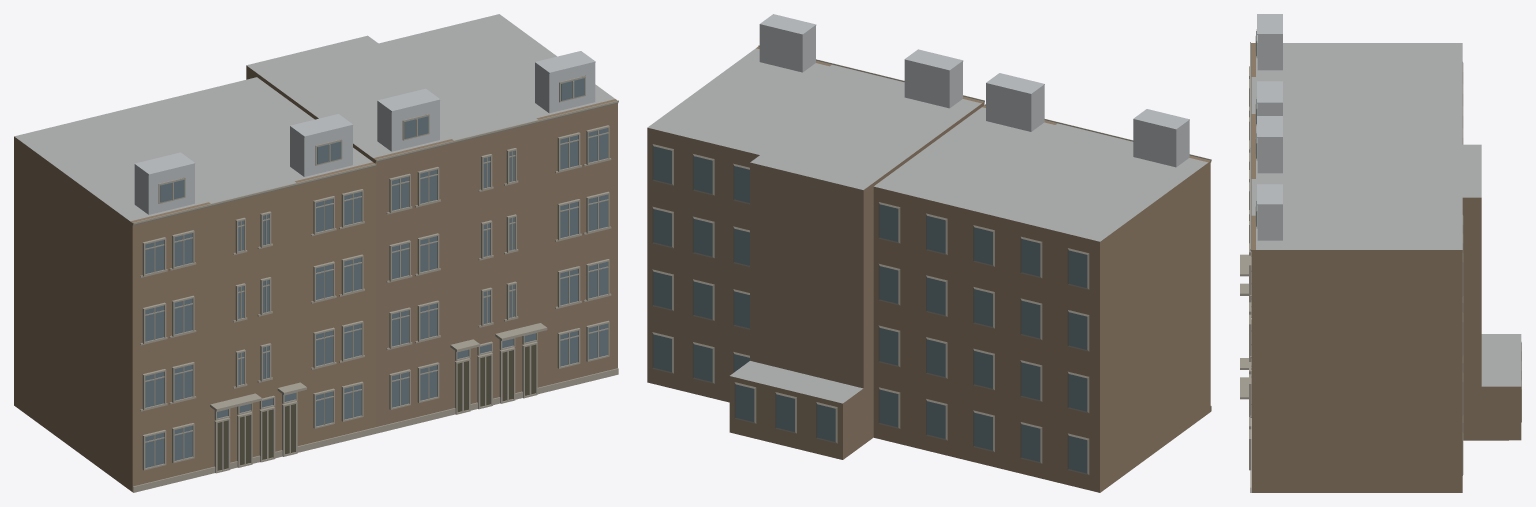
Rendered from chunk-face-zwijgerlaan-225-279-r1.glb.
3 views of the same model, side by side, from view 1: azimuth 30°, elevation 25°; view 2: azimuth 150°, elevation 25°; view 3: azimuth 270°, elevation 25° (orthographic). The views are drawn at different scales.
Parts seen in each view (by area): view 1: face-zwijgerlaan-225-279-r1; view 2: face-zwijgerlaan-225-279-r1; view 3: face-zwijgerlaan-225-279-r1.
Part boxes in pixels (x1,y1,x2,y2): face-zwijgerlaan-225-279-r1: (14,14,618,492); face-zwijgerlaan-225-279-r1: (647,14,1211,492); face-zwijgerlaan-225-279-r1: (1240,14,1521,492).
Bounding box in the file's own units: 25.57 × 15.86 × 14.46.
